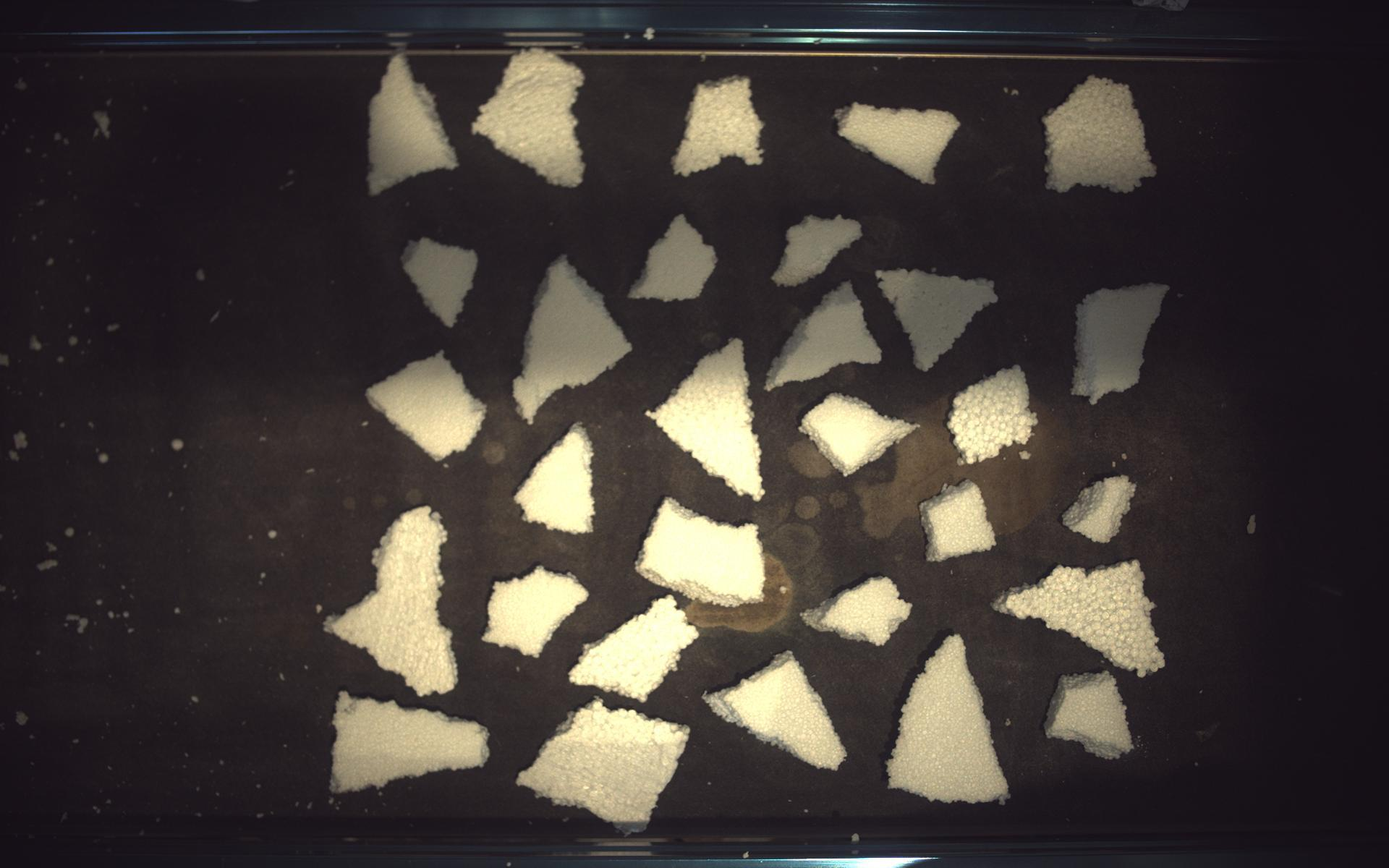foam: (323, 506, 457, 697), (517, 700, 691, 832), (888, 635, 1011, 804), (995, 561, 1168, 678), (514, 255, 632, 424), (647, 339, 765, 501), (704, 652, 847, 771), (330, 692, 489, 794), (473, 48, 585, 187), (636, 498, 765, 607), (570, 595, 699, 703), (1045, 75, 1159, 192), (366, 351, 486, 461), (368, 52, 458, 195), (767, 281, 883, 391), (878, 268, 999, 371), (1074, 283, 1171, 404), (838, 101, 961, 183), (483, 566, 590, 658), (802, 393, 920, 476), (673, 75, 764, 176), (949, 365, 1040, 464), (514, 423, 595, 534), (1047, 671, 1136, 760), (629, 213, 718, 301), (802, 578, 914, 647), (401, 237, 478, 326), (773, 214, 863, 286), (922, 480, 998, 562), (1064, 475, 1139, 543)
